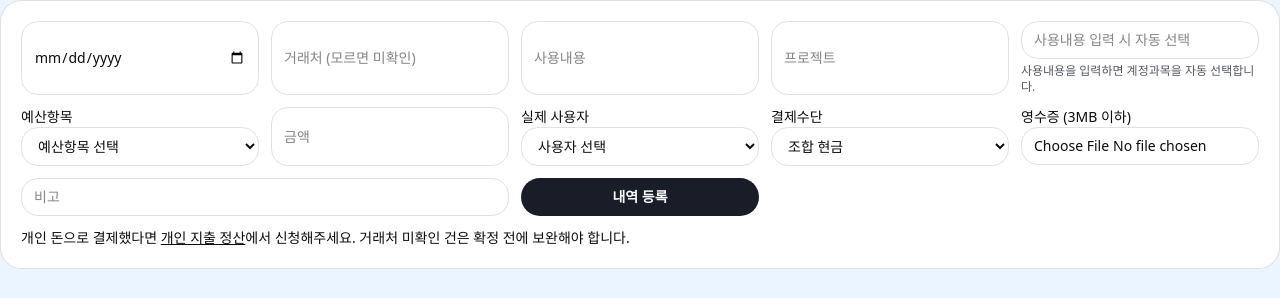
소액결의 계정과목 자동 선택 › 수동 수정은 유지하고 자동 선택으로 돌아갈 수 있다
Type "페인트용품 구입" into the field labelled "사용내용" at x=640, y=58, box [521,21,759,95]
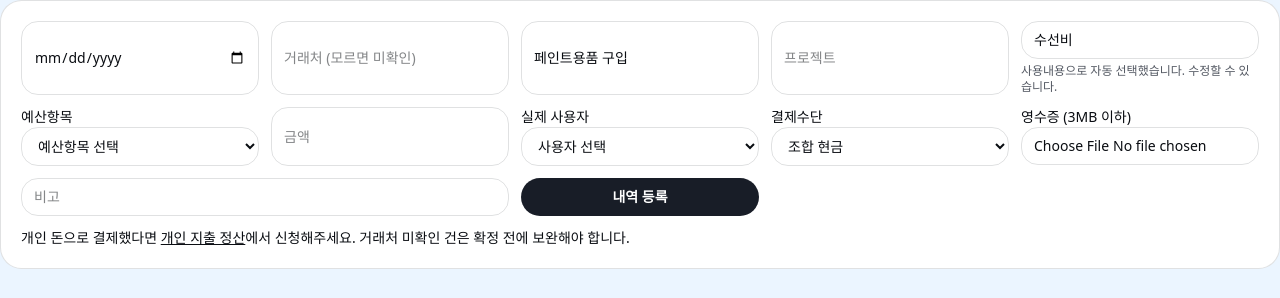
Replace the text in the field named "계정과목" with "소모품비" at x=1140, y=40, box [1021,21,1259,59]
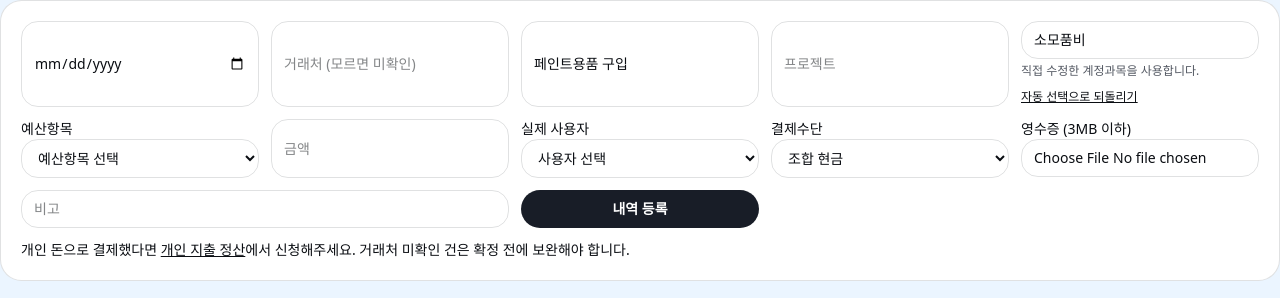
Replace the text in the field named "사용내용" with "사무실 도색" at x=640, y=64, box [521,21,759,107]
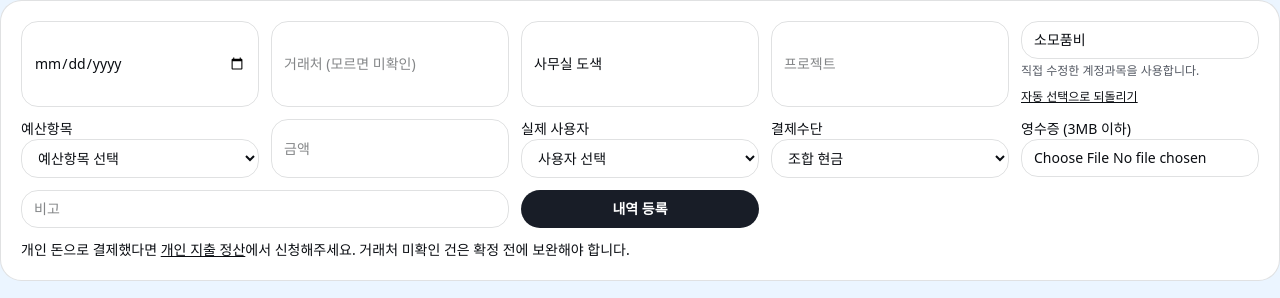
Click the button "자동 선택으로 되돌리기" at x=1079, y=97, box [1021,89,1138,105]
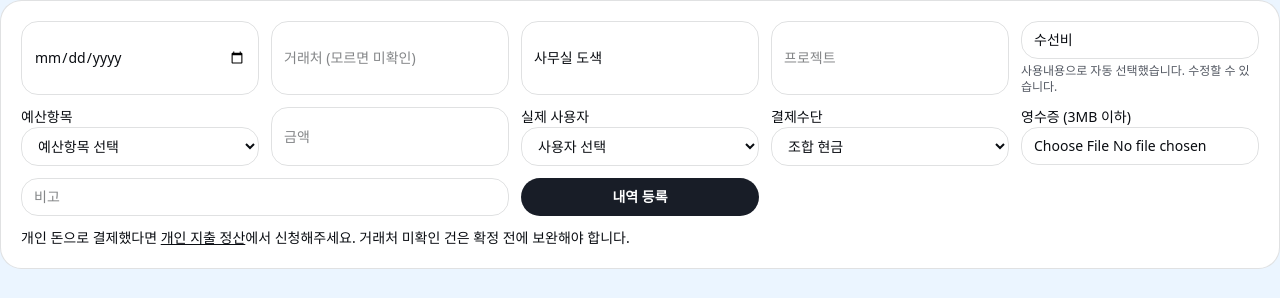
Result: the field named "계정과목" holds "수선비" at [1021,21,1259,59]
